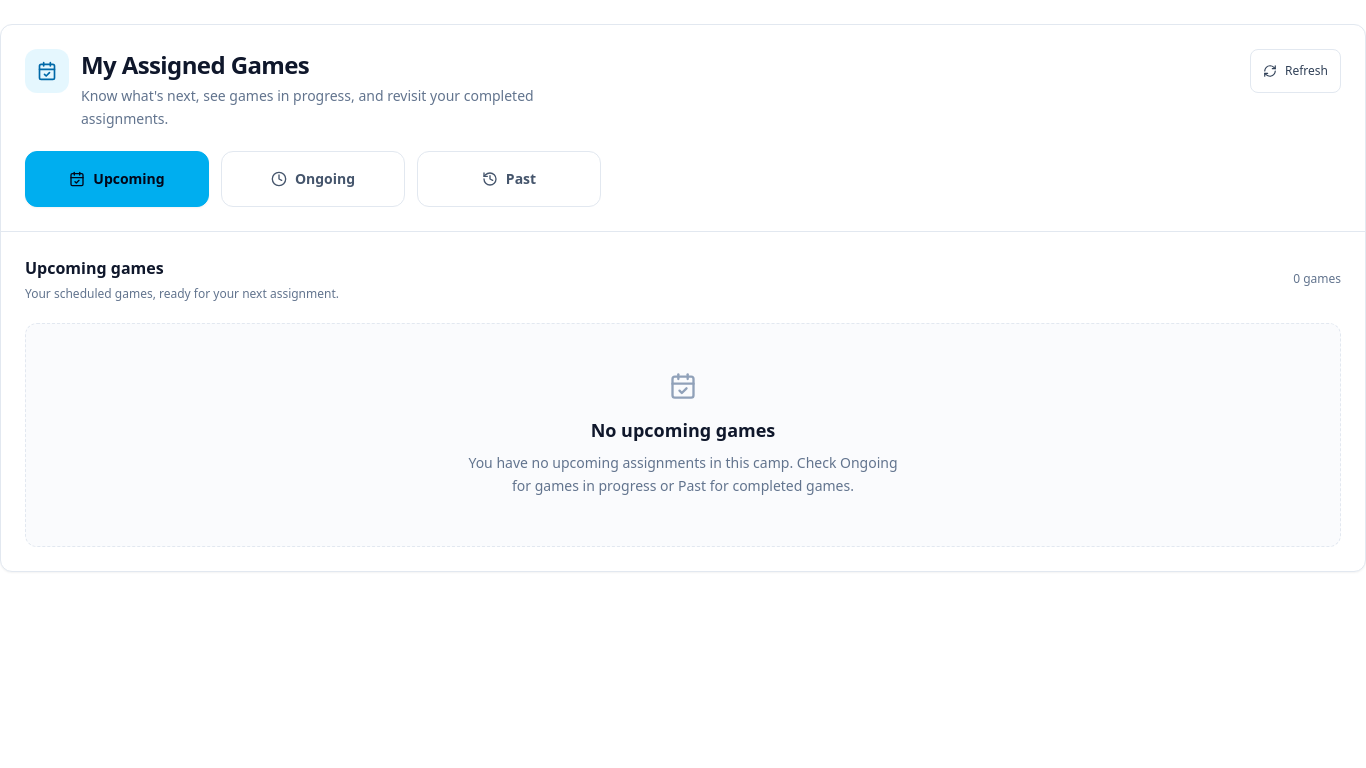
Test: MyGames status filters › keeps filters available for an empty Past category
Click the button "Past" at (509, 178), box [417,150,601,206]
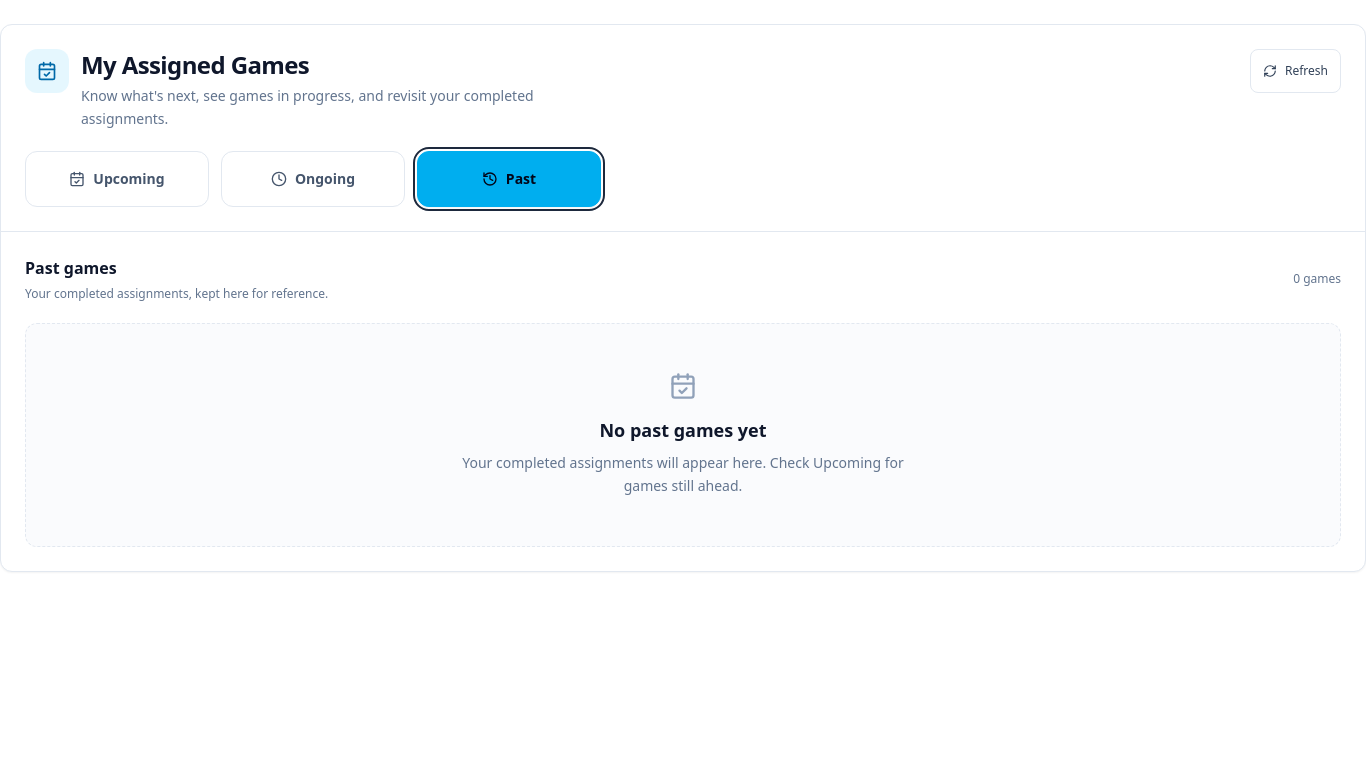
Expected: the button "Upcoming" is enabled, [25,150,209,206]
Result: the heading "No past games yet" is shown at [600,418,767,442]
